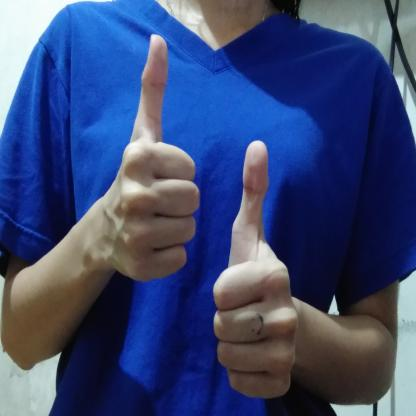which: (96, 30, 301, 404)
